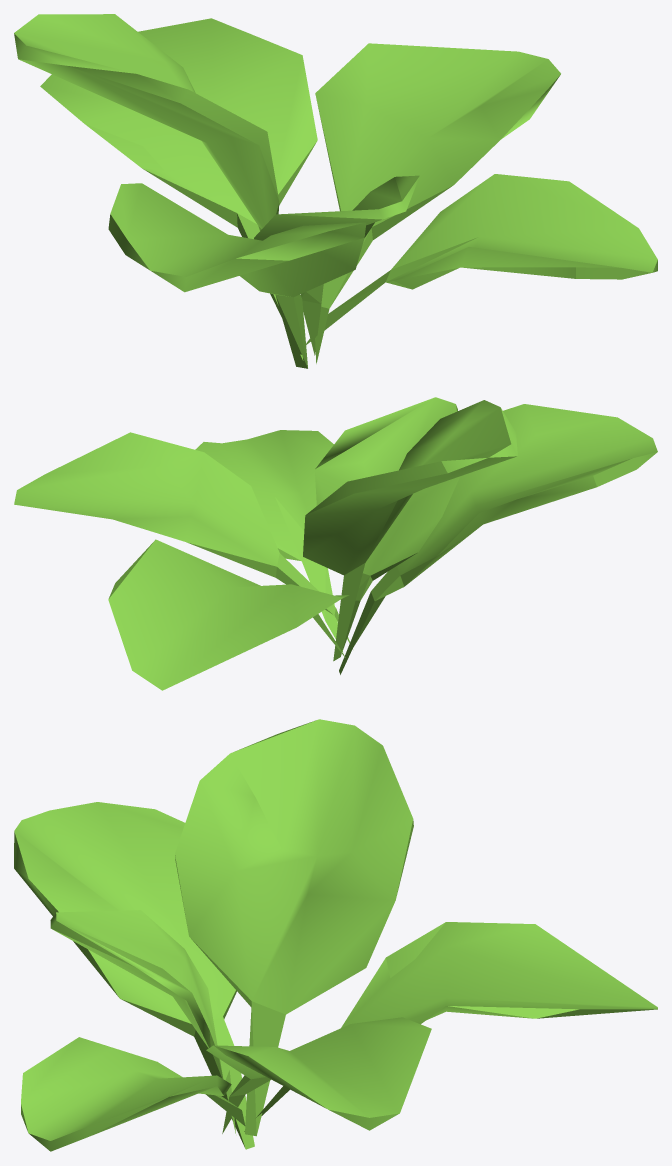
The model's file is Grass 02.FBX.
The picture shows the model from 3 angles, top to bottom: view 1: azimuth 30°, elevation 25°; view 2: azimuth 150°, elevation 25°; view 3: azimuth 270°, elevation 25°; orthographic projection. The views are drawn at different scales.
Visible parts, largest first — view 1: Box001; view 2: Box001; view 3: Box001.
Boxes of the visible parts, left/top/right/bottom form: Box001: left=14, top=14, right=657, bottom=368; Box001: left=14, top=397, right=657, bottom=690; Box001: left=14, top=719, right=657, bottom=1151.
Size of the model in its own units: 21.08 by 12.37 by 22.37.
